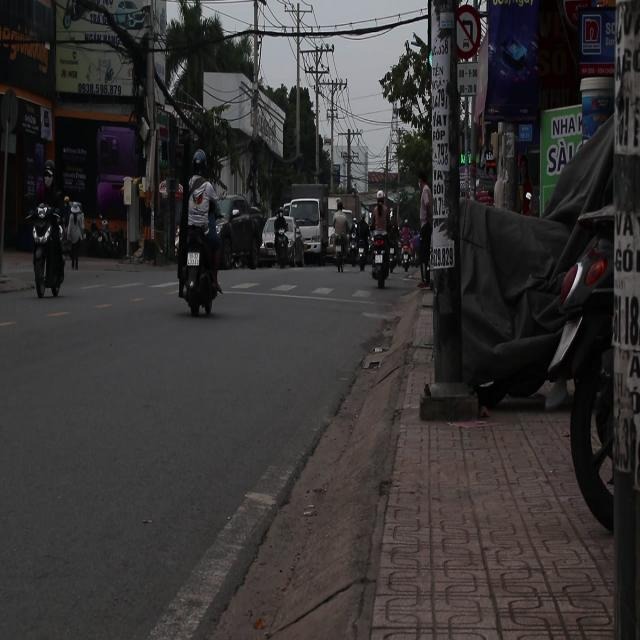car: (219, 196, 264, 269)
motorbike: (180, 222, 222, 326), (31, 207, 68, 308), (368, 215, 398, 287), (350, 214, 373, 272), (332, 231, 348, 272)
truck: (283, 189, 334, 266)
